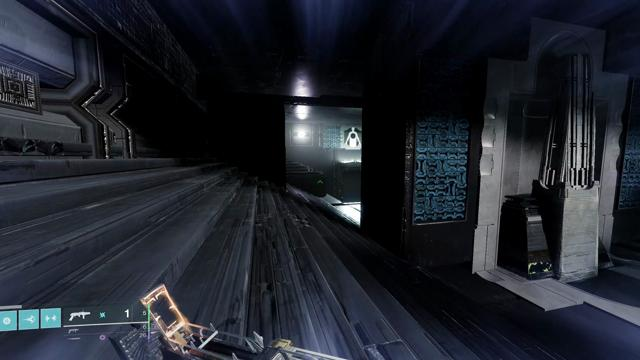grief: (344, 127, 362, 147)
